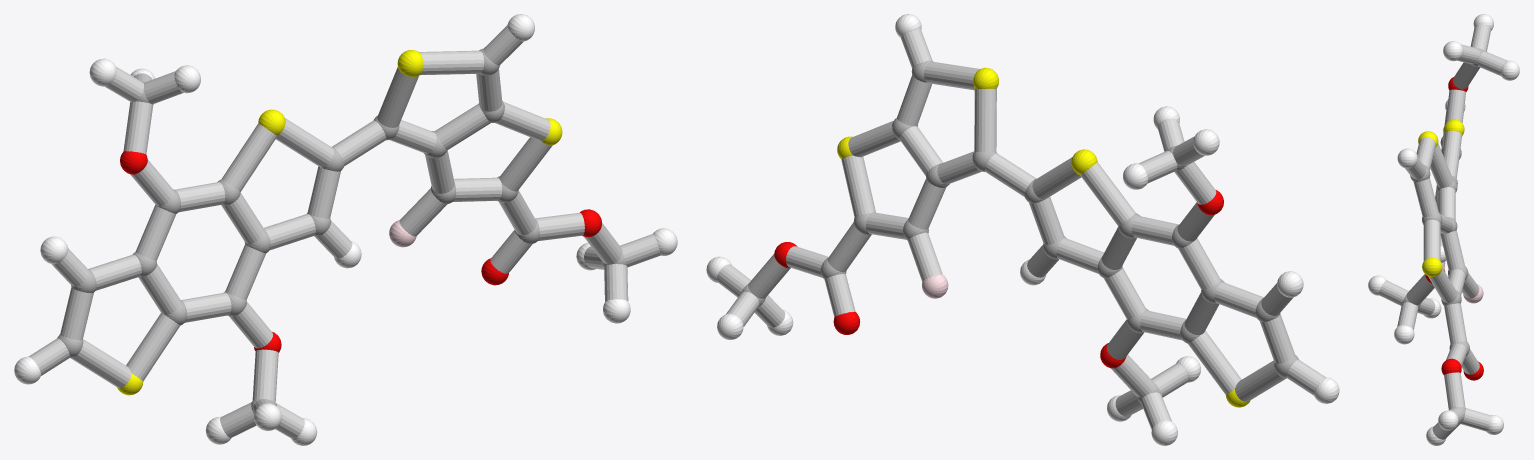
The model's file is color.glb.
The picture shows the model from 3 angles, left to right: view 1: azimuth 30°, elevation 25°; view 2: azimuth 150°, elevation 25°; view 3: azimuth 270°, elevation 25°; orthographic projection. The views are drawn at different scales.
Parts seen in each view (by area): view 1: grp15205, grp8689, grp1, grp7241, grp13395; view 2: grp15205, grp8689, grp1, grp13395, grp7241; view 3: grp15205, grp8689, grp1, grp7241, grp13395.
Boxes of the visible parts, x1,y1,x2,y2 form: grp15205: (29, 25, 660, 438); grp8689: (14, 14, 677, 445); grp1: (57, 48, 626, 410); grp7241: (117, 50, 562, 395); grp13395: (120, 151, 601, 352); grp15205: (716, 29, 1325, 429); grp8689: (706, 14, 1339, 445); grp1: (741, 60, 1298, 403); grp13395: (774, 190, 1223, 368); grp7241: (837, 67, 1250, 407); grp15205: (1379, 25, 1507, 439); grp8689: (1368, 14, 1519, 445); grp1: (1402, 48, 1484, 424); grp7241: (1418, 119, 1464, 276); grp13395: (1425, 77, 1483, 380).
Bounding box in the file's own units: 16.37 × 9 × 4.47.
